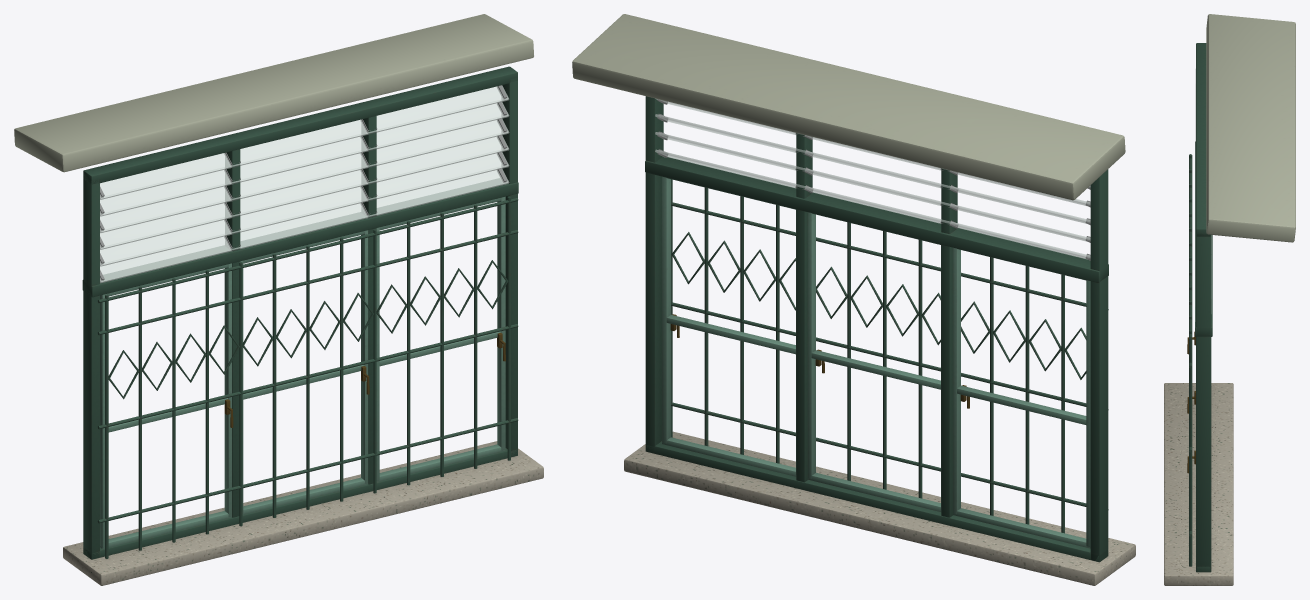
The model's file is CTCC_ENV_SteelWindow_Mid.fbx.
3 views of the same model, side by side, from view 1: azimuth 30°, elevation 25°; view 2: azimuth 150°, elevation 25°; view 3: azimuth 270°, elevation 25° (orthographic). The views are drawn at different scales.
Visible parts, largest first — view 1: CTCC_ENV_SteelWindow_Mid_LOD0; view 2: CTCC_ENV_SteelWindow_Mid_LOD0; view 3: CTCC_ENV_SteelWindow_Mid_LOD0.
Boxes of the visible parts, x1,y1,x2,y2 form: CTCC_ENV_SteelWindow_Mid_LOD0: [14, 14, 543, 585]; CTCC_ENV_SteelWindow_Mid_LOD0: [572, 14, 1135, 585]; CTCC_ENV_SteelWindow_Mid_LOD0: [1164, 14, 1295, 585].
Size of what is drawn, in the model's own units: 2.31 by 1.95 by 0.6252.
